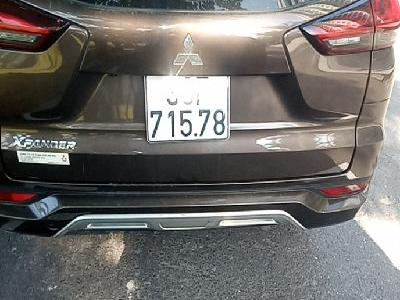lisence: (144, 74, 232, 143)
